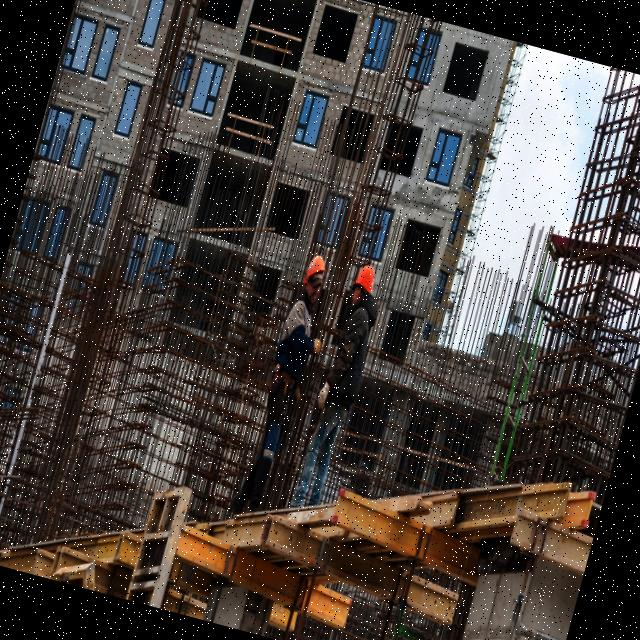Helmet: (302, 254, 329, 290), (352, 263, 379, 294)
NoJacket: (327, 294, 378, 404), (274, 293, 317, 383)
